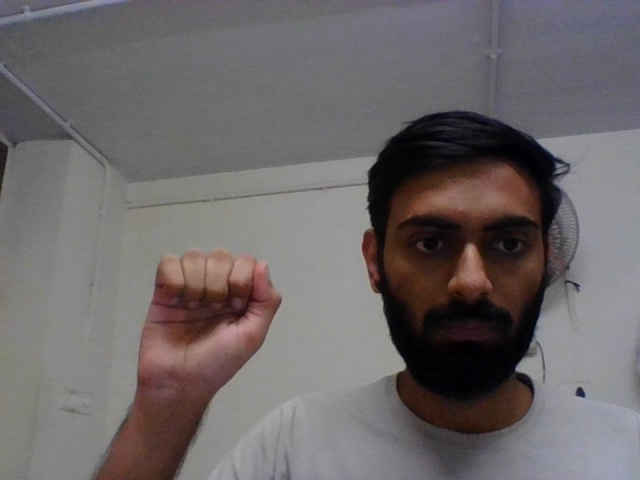A: (127, 243, 286, 397)
